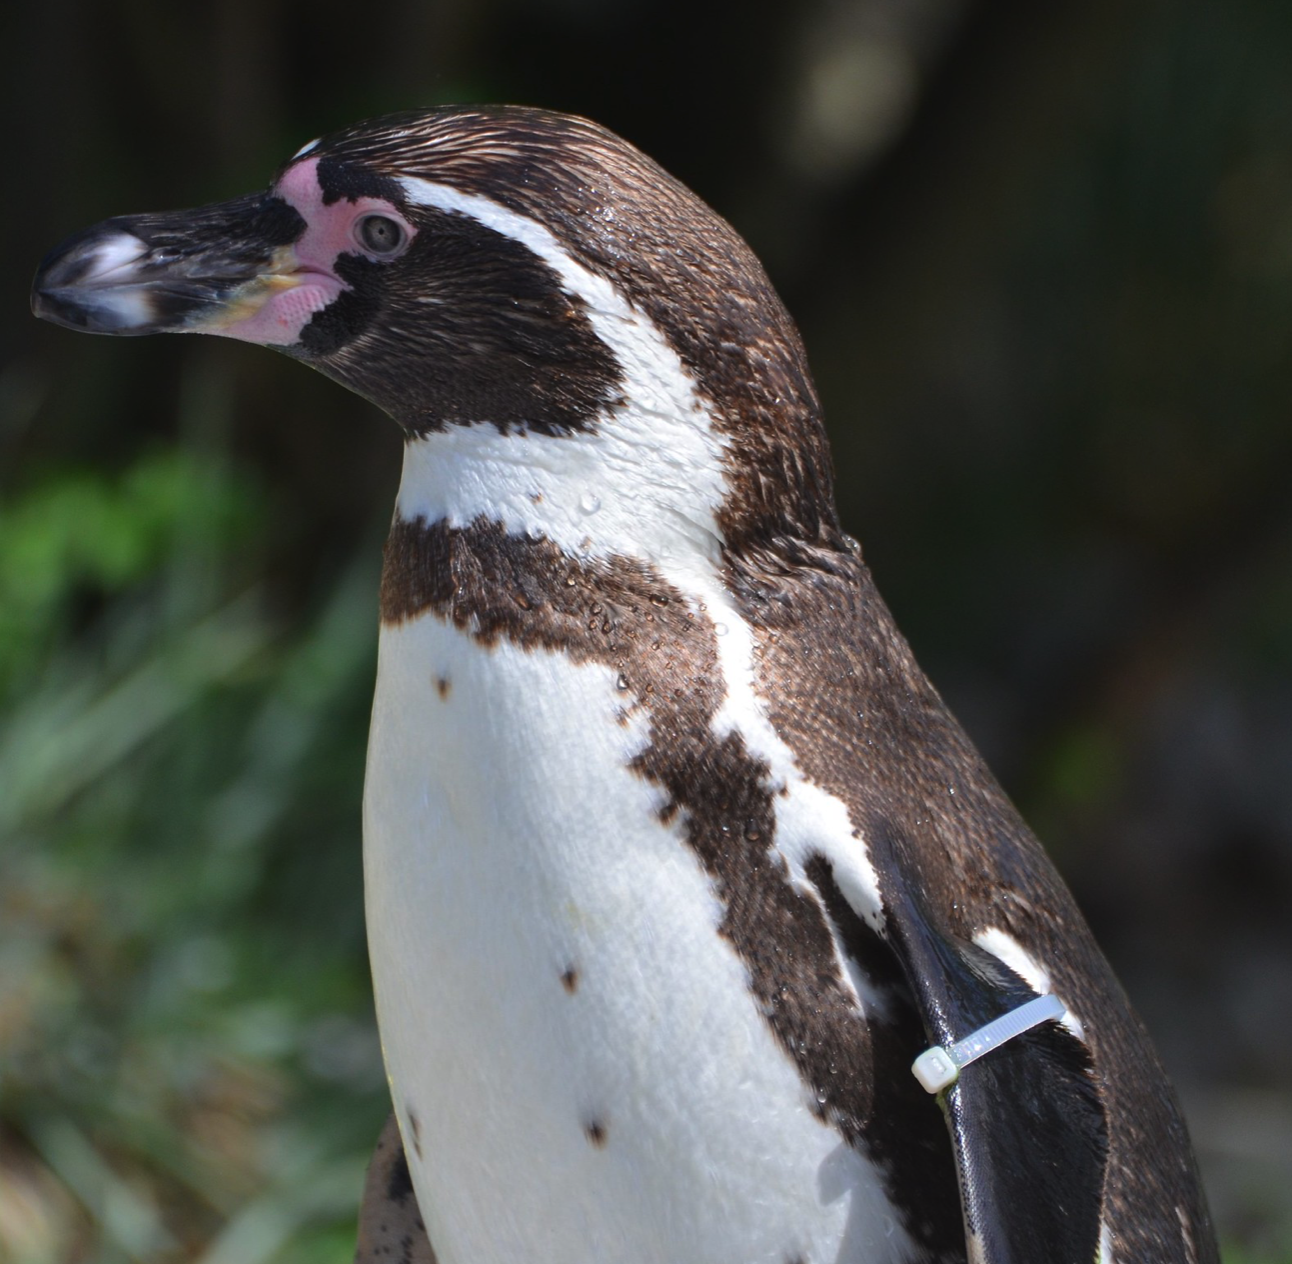penguin: (31, 109, 1217, 1264)
